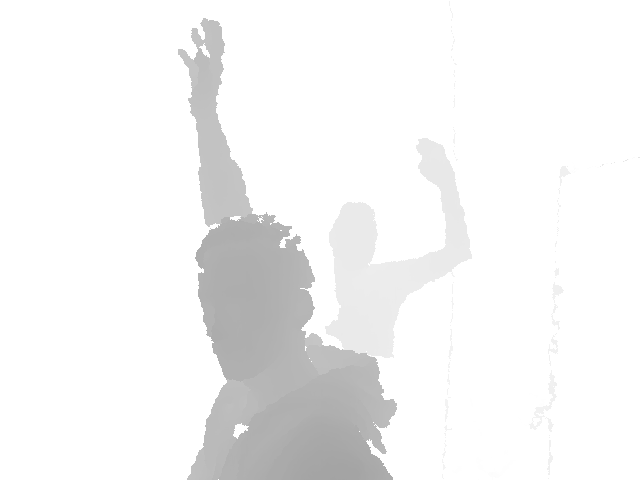hand: (177, 17, 226, 107), (416, 137, 456, 195)
head: (195, 213, 314, 384), (328, 202, 378, 275)
person: (176, 17, 400, 480), (328, 137, 473, 359)
